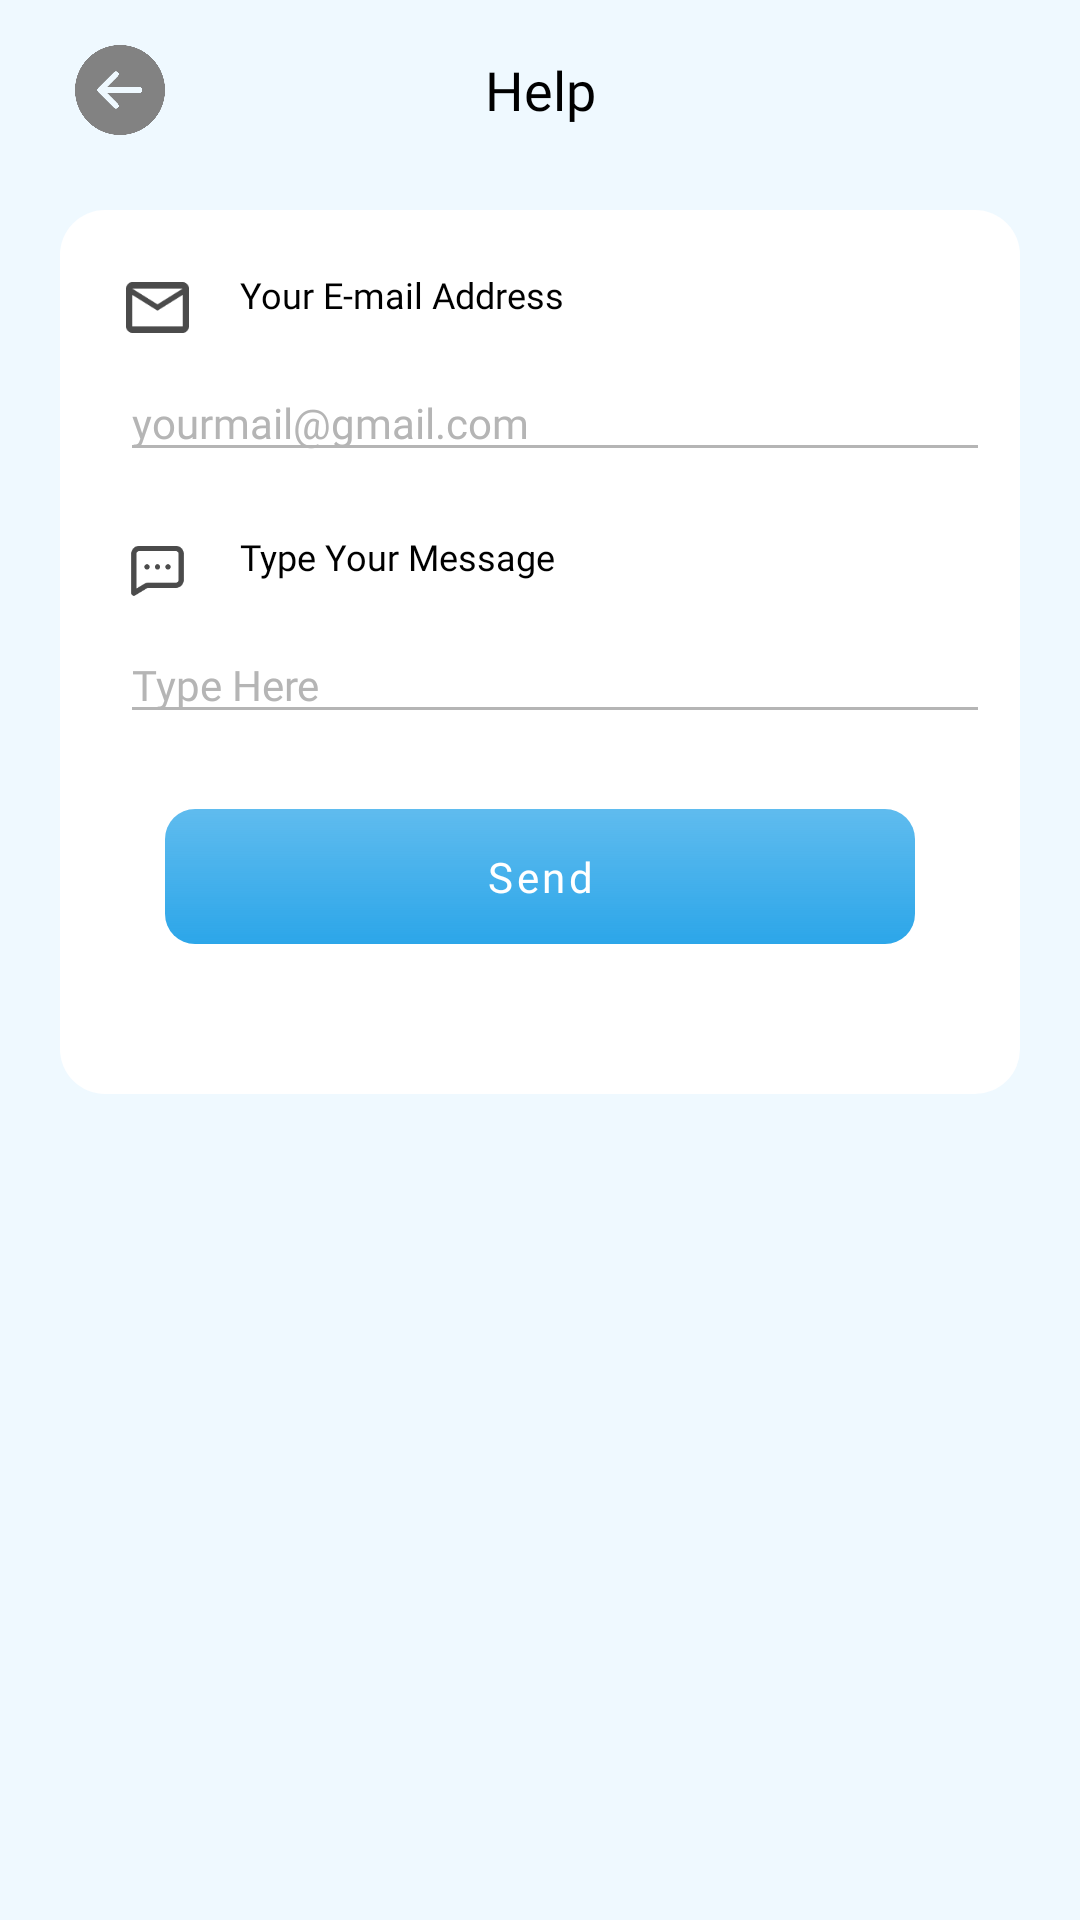

Where to tap for icons on this 1080px×1920px app screen, as [x,y]:
backk: [120,90]
mails: [157,307]
